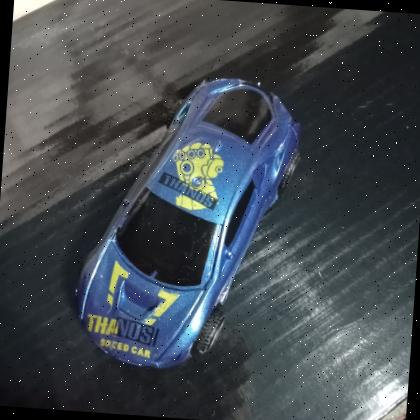Car: (62, 61, 309, 384)
